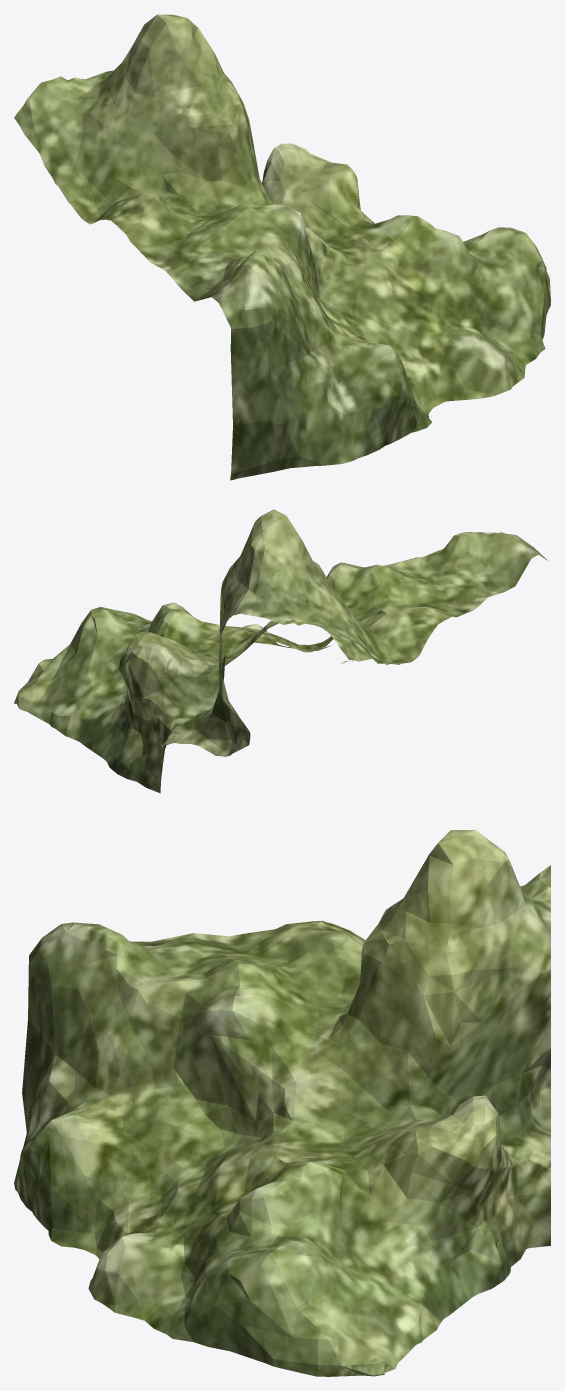
3 views of the same model, one above another, from view 1: azimuth 30°, elevation 25°; view 2: azimuth 150°, elevation 25°; view 3: azimuth 270°, elevation 25° (orthographic). The views are drawn at different scales.
Size of the model in its own units: 2.08 by 1.38 by 1.87.
Materials: 2 (2 with a texture image).
